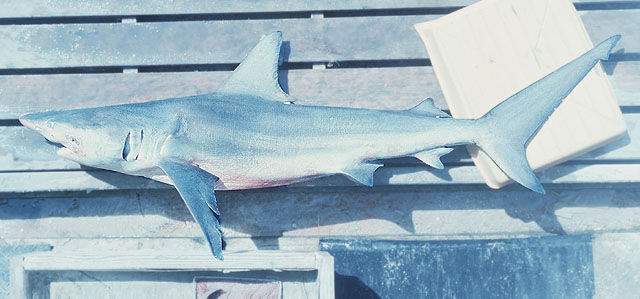fish: (20, 31, 620, 259)
